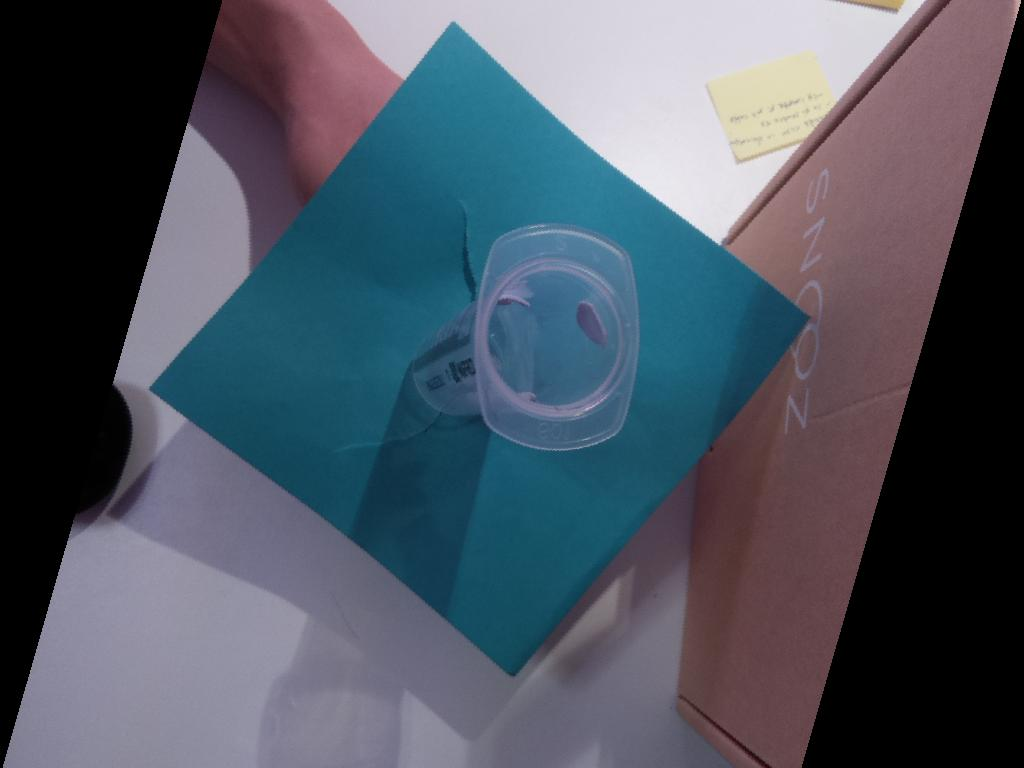dirty: (476, 222, 641, 453)
